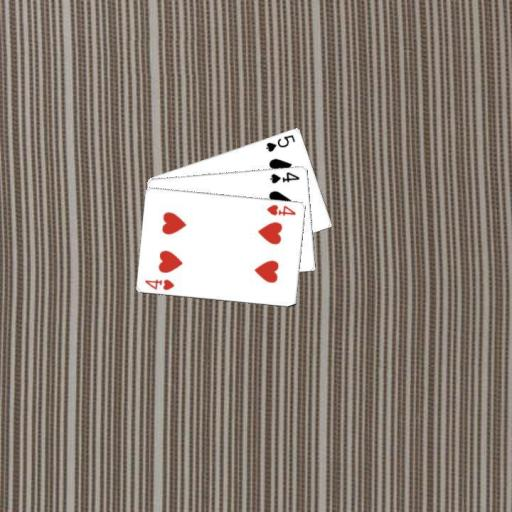4H: (142, 275, 176, 292), (264, 201, 297, 217)
4S: (267, 168, 301, 185)
5S: (263, 131, 297, 153)
